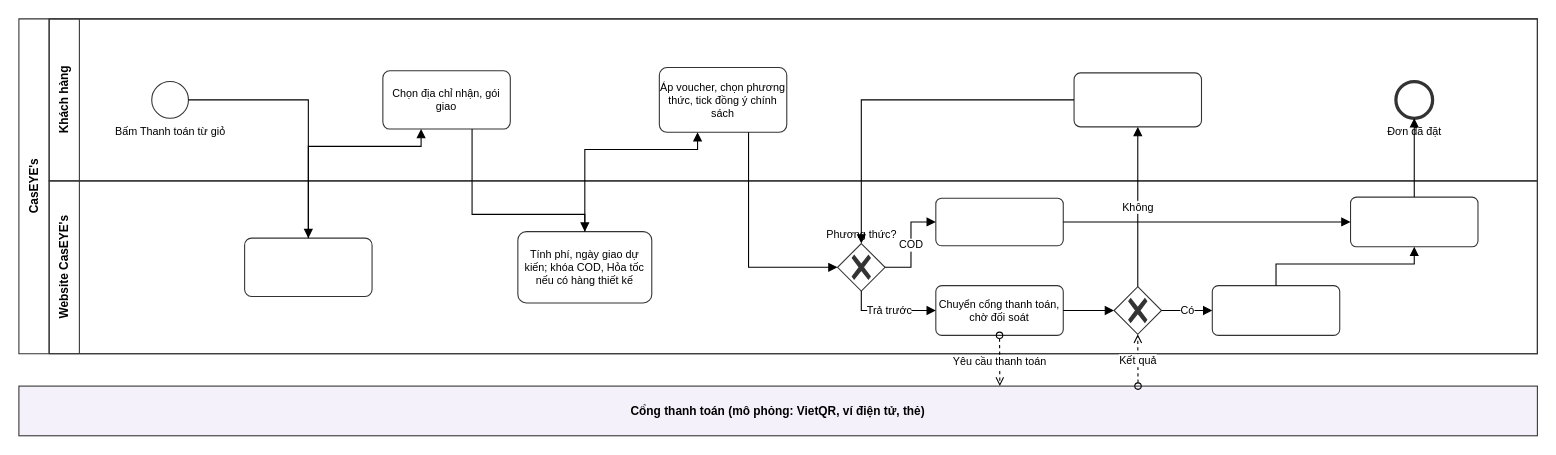
Some shapes in this 1556 by 455 pixel diagram are drawn without their labels. The centre of each missing label's shape, as x and y in pixels:
"Màn thành công, nút Theo dõi đơn" belongs at point (1413, 221).
"Nạp giỏ, xác định loại hàng" belongs at point (308, 266).
"Thành công?" belongs at point (1137, 310).
"Thử lại / đổi phương thức (giữ mã đơn)" belongs at point (1137, 99).
"Tạo đơn COD (Chờ xác nhận)" belongs at point (999, 221).
"Tạo đơn trả trước, lưu PolicyConsent" belongs at point (1275, 310).
